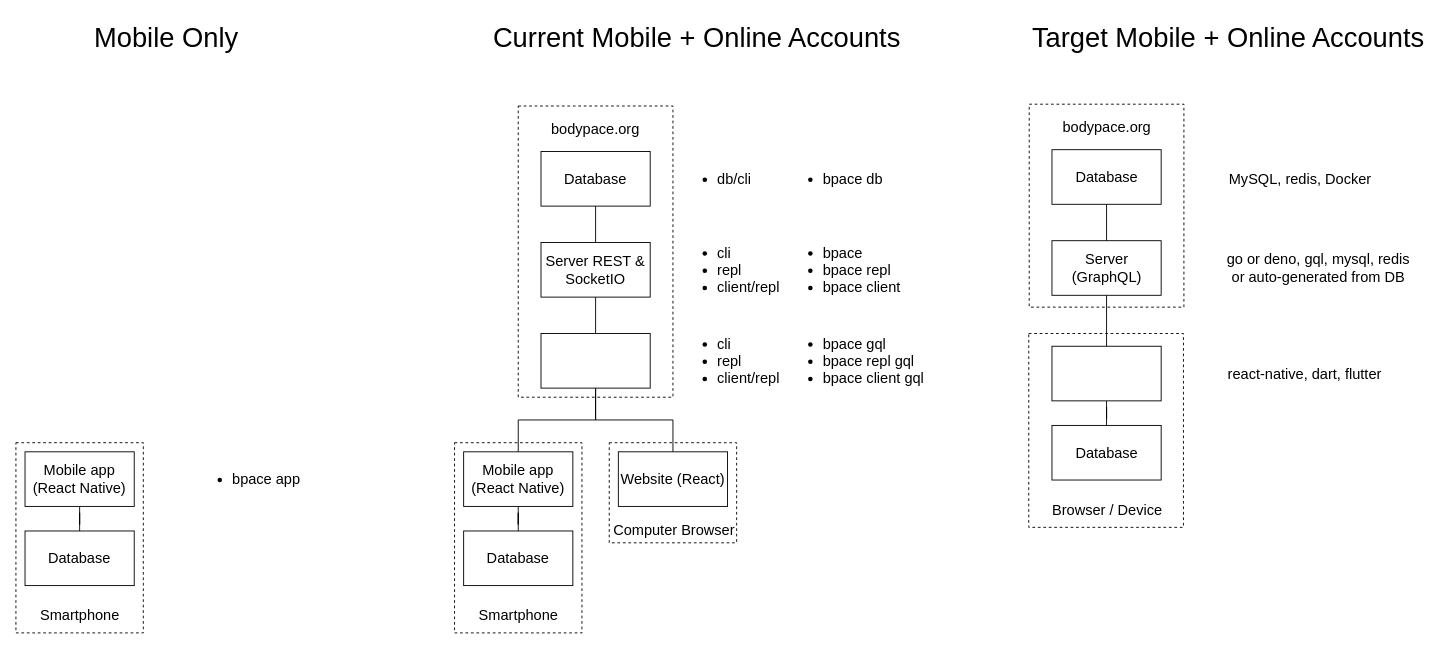
This 1448x649 diagram has some shape labels left out. The shapes that lost their labels are listed below. From the top down, each one's centre as x and y in pixels, then its label:
At [595,360]: "Server GraphQL".
At [1106,373]: "PWA".
